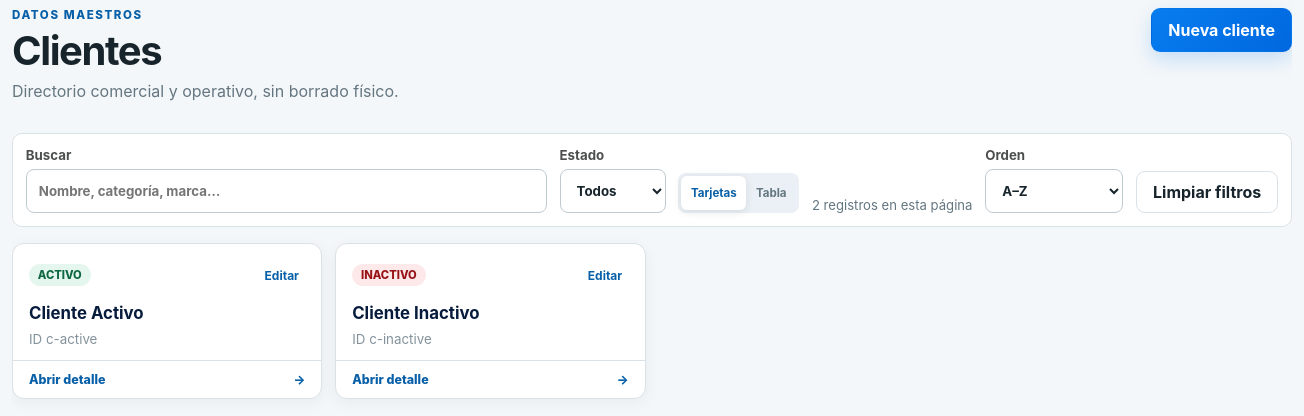
Scenario: MasterDataPage clients filters › searches commercial identifiers, filters status and distinguishes no matches
Type "ACT010101" into the search field at (286, 191), box [26, 169, 547, 213]
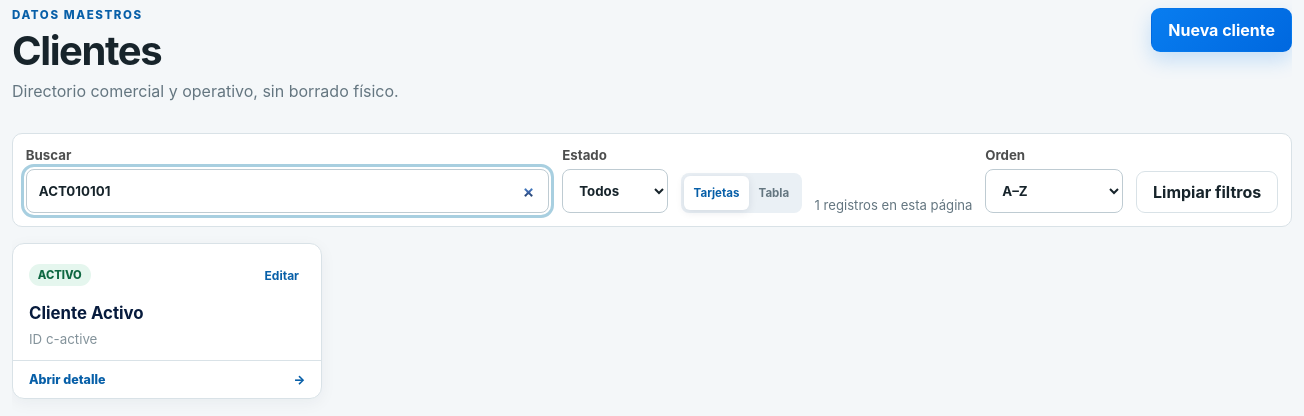
Expected: the link "Cliente Activo" is shown, [29, 303, 144, 323]
Expected: the link "Cliente Inactivo" is gone
Clear the search field at (288, 191), box [26, 169, 549, 213]
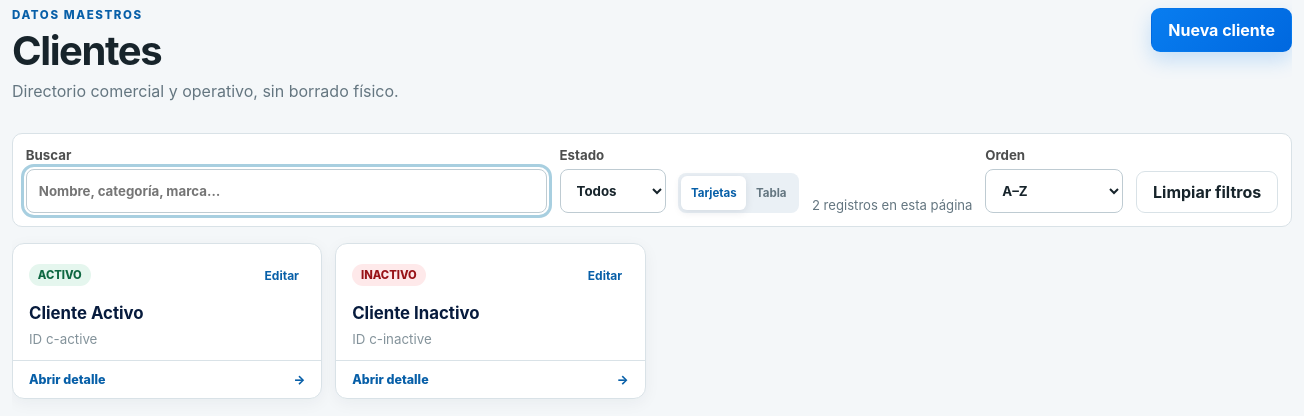
Select "Inactivos" in the dropdown labelled "Estado" at (613, 191), box [560, 169, 666, 213]
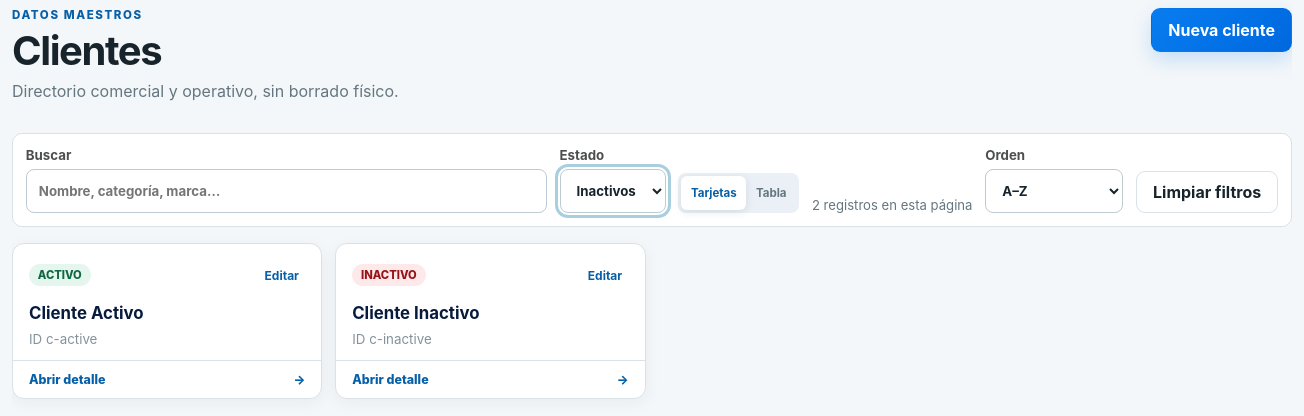
Expected: the link "Cliente Inactivo" is shown, [352, 303, 480, 323]
Type "no-existe" into the search field at (286, 191), box [26, 169, 547, 213]
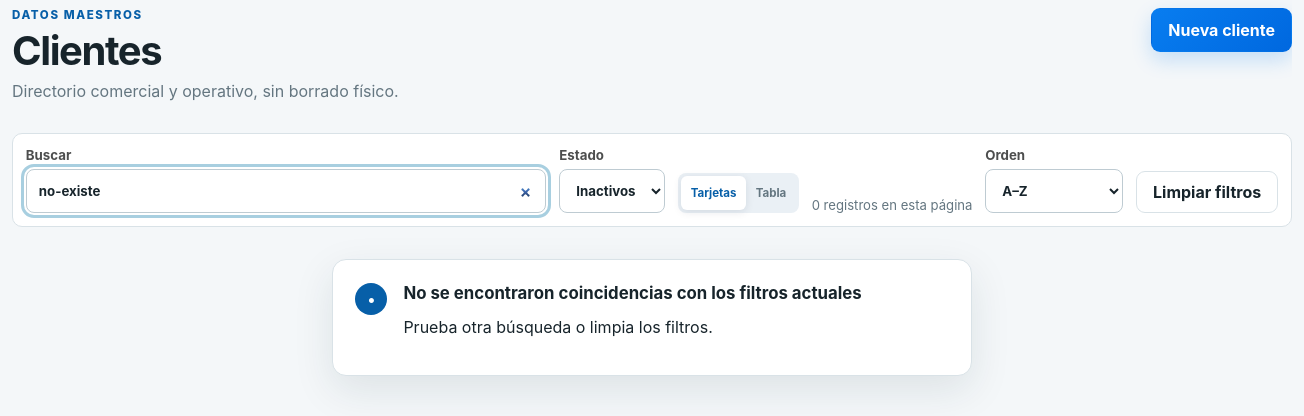
Expected: the heading "No se encontraron coincidencias con los filtros actuales" is shown, [403, 283, 862, 303]
